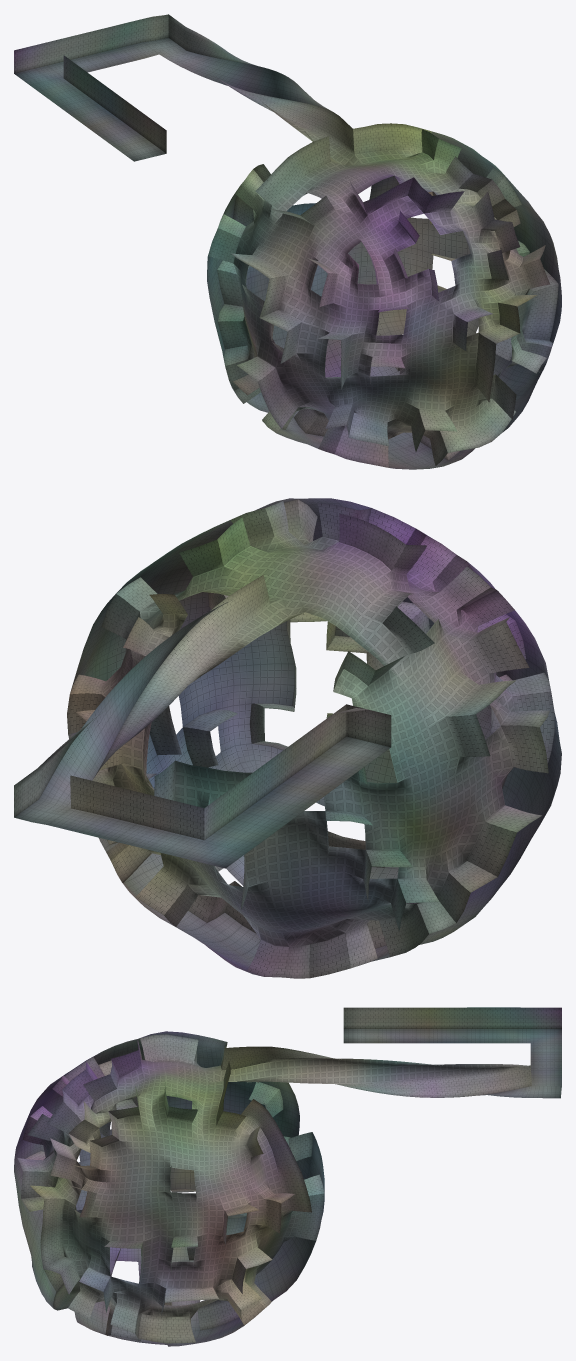
3 renders of one model, top to bottom at view 1: azimuth 30°, elevation 25°; view 2: azimuth 150°, elevation 25°; view 3: azimuth 270°, elevation 25°, orthographic. The views are drawn at different scales.
Visible parts, largest first — view 1: file1; view 2: file1; view 3: file1.
Part boxes in pixels (x1,y1,x2,y2): file1: (14, 14, 561, 469); file1: (14, 498, 561, 978); file1: (14, 1007, 561, 1346).
Bounding box in the file's own units: 51.01 × 50.71 × 87.88.
3 materials, 3 textured.
